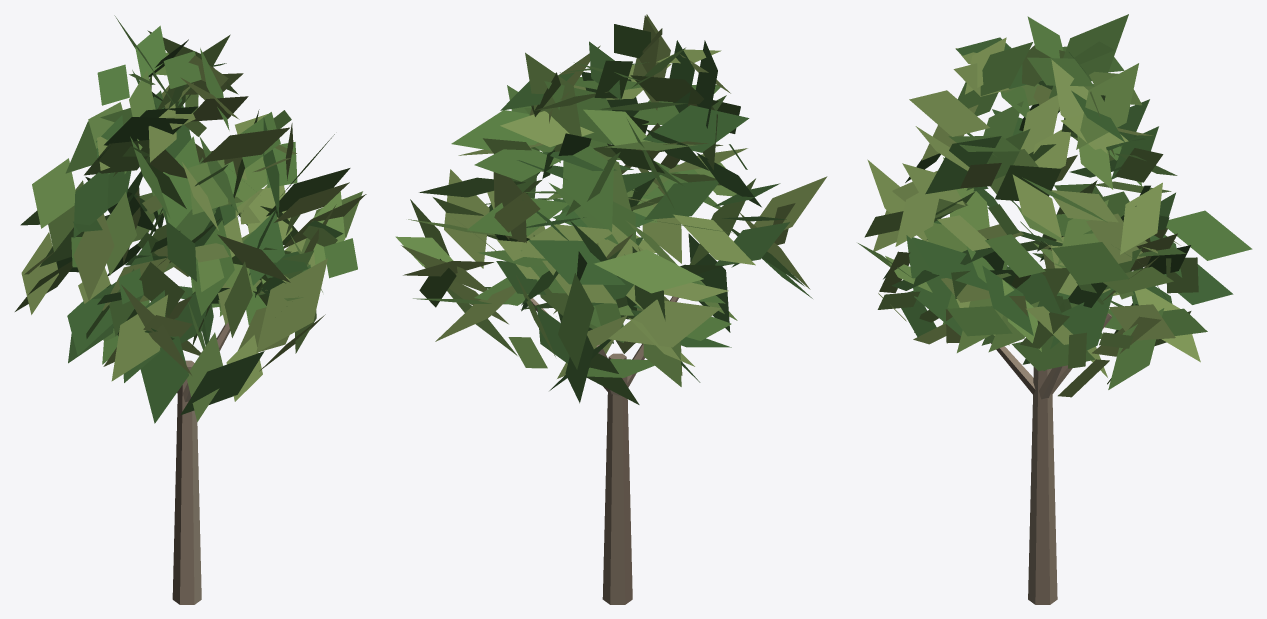
File: tree_forest_b.gltf
3 views of the same model, side by side, from view 1: azimuth 30°, elevation 25°; view 2: azimuth 150°, elevation 25°; view 3: azimuth 270°, elevation 25° (orthographic). The views are drawn at different scales.
Visible parts, largest first — view 1: ForestB; view 2: ForestB; view 3: ForestB.
Part boxes in pixels (bbox=[...]): ForestB: bbox=[15, 15, 366, 604]; ForestB: bbox=[395, 14, 827, 604]; ForestB: bbox=[858, 14, 1252, 604].
Bounding box in the file's own units: 7.19 × 11.92 × 7.51.
